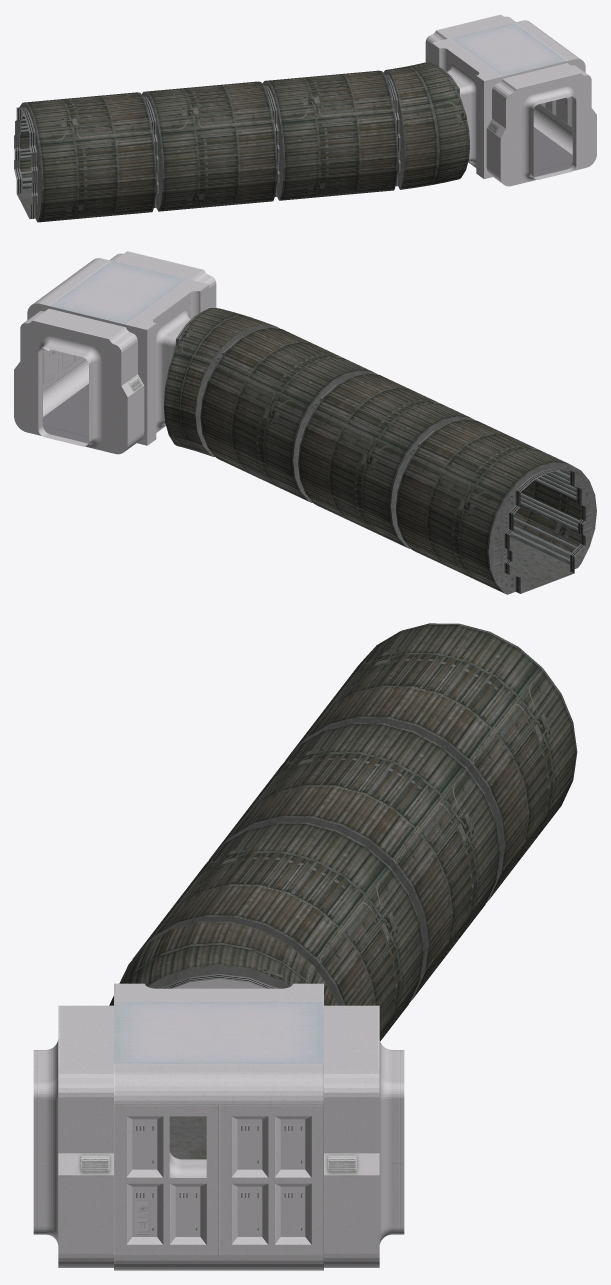
The model's file is thm_spc_corvette_dungeon_r43_penthall43_mesh_r43.fbx.
The picture shows the model from 3 angles, top to bottom: view 1: azimuth 30°, elevation 25°; view 2: azimuth 150°, elevation 25°; view 3: azimuth 270°, elevation 25°; orthographic projection. The views are drawn at different scales.
Parts seen in each view (by area): view 1: mesh_node; view 2: mesh_node; view 3: mesh_node.
Part boxes in pixels (left/top/right/bottom): mesh_node: left=14, top=14, right=596, bottom=222; mesh_node: left=14, top=251, right=596, bottom=594; mesh_node: left=33, top=623, right=577, bottom=1270.
Bounding box in the file's own units: 18.3 × 3.5 × 8.8.
